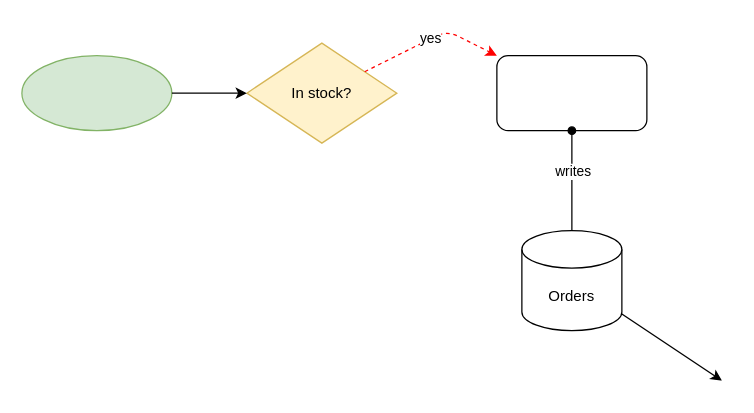
This 754x413 diagram has some shape labels left out. The shapes that lost their labels are listed below. From the top down, each one's centre as x and y in pixels, then its label:
[96,92]: Start
[571,92]: Take payment
